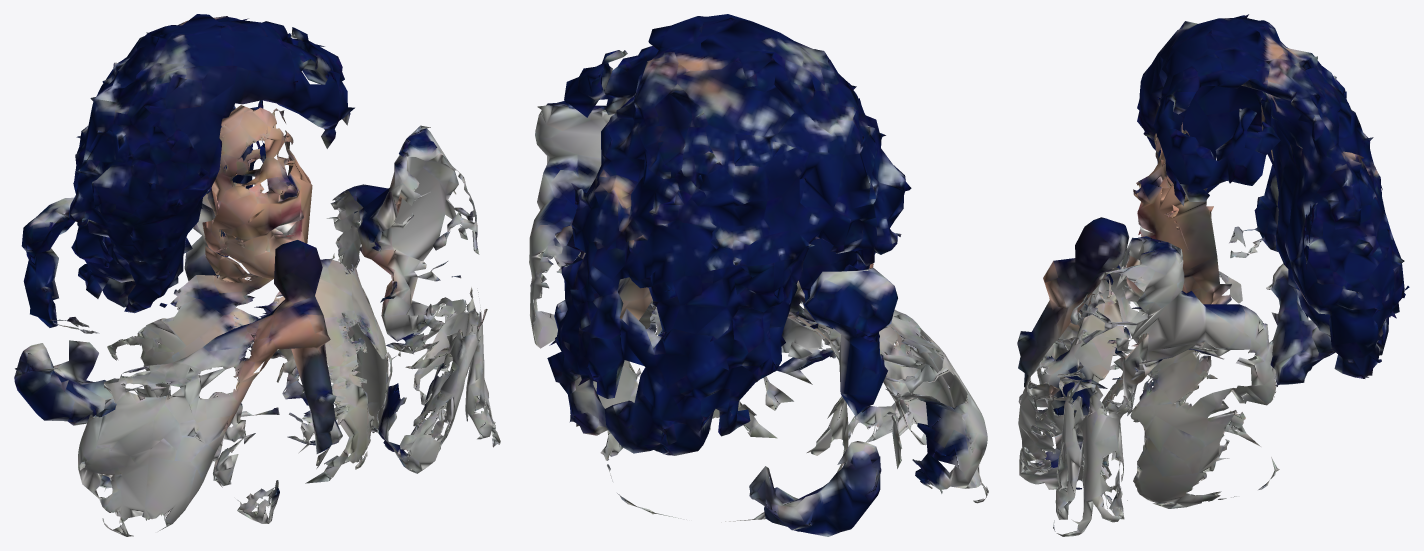
File: diana_ross_optimized.glb
The picture shows the model from 3 angles, left to right: view 1: azimuth 30°, elevation 25°; view 2: azimuth 150°, elevation 25°; view 3: azimuth 270°, elevation 25°; orthographic projection. The views are drawn at different scales.
Visible parts, largest first — view 1: tripo_node_4a808092-9e19-4a35-af84-709c87faaae2; view 2: tripo_node_4a808092-9e19-4a35-af84-709c87faaae2; view 3: tripo_node_4a808092-9e19-4a35-af84-709c87faaae2.
Part boxes in pixels (bbox=[...]): tripo_node_4a808092-9e19-4a35-af84-709c87faaae2: bbox=[14, 14, 500, 536]; tripo_node_4a808092-9e19-4a35-af84-709c87faaae2: bbox=[529, 14, 988, 536]; tripo_node_4a808092-9e19-4a35-af84-709c87faaae2: bbox=[1017, 14, 1409, 536].
Bounding box in the file's own units: 0.9539 × 0.9969 × 0.8356.
Materials: 1 (1 with a texture image).
